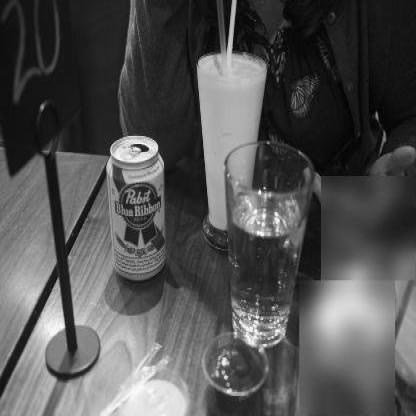alumunium_can: (107, 136, 167, 284)
objects: (225, 138, 313, 346), (196, 52, 268, 250)
